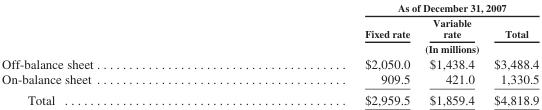table: (1, 1, 538, 106)
table column: (1, 1, 228, 106), (228, 1, 419, 106), (419, 1, 483, 106), (483, 1, 538, 106)
table column header: (1, 1, 538, 55)
table row: (1, 15, 538, 40), (1, 71, 538, 89), (1, 89, 538, 106), (1, 55, 538, 71), (1, 40, 538, 55), (1, 1, 538, 15)
table spanning cell: (228, 40, 538, 55), (228, 1, 538, 15)
